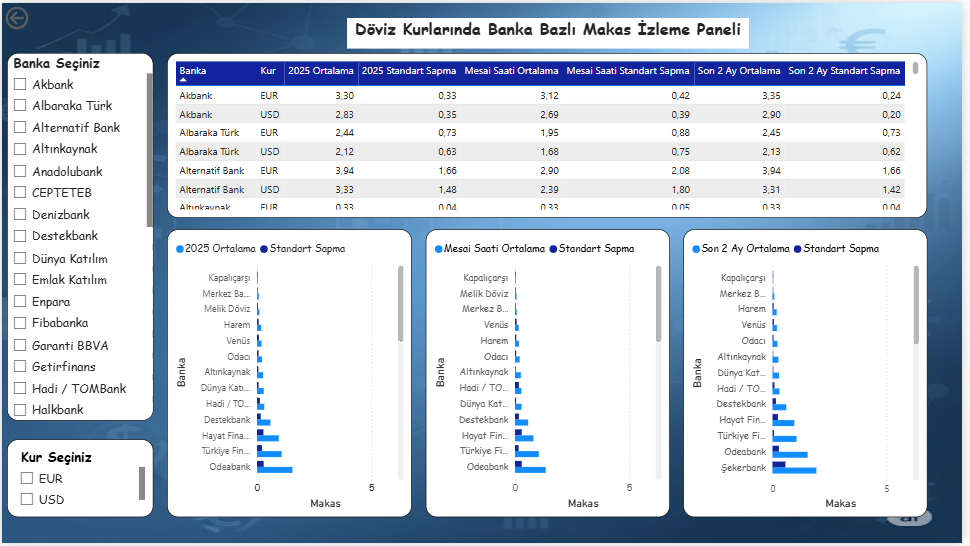

What the dashboard file says about the page in this screenshot:
{"tool":"powerbi","page":{"name":"Panel","canvas":[1280,720],"ordinal":0},"visuals":[{"type":"actionButton","box":[0,0,100,40],"z":0},{"type":"tableEx","fields":{"Values":["Doviz_Bot_Ozet_Banka.Banka","Doviz_Bot_Ozet_Banka.Kur","Doviz_Bot_Ozet_Banka.2025 Ortalama","Doviz_Bot_Ozet_Banka.2025 Standart Sapma","Doviz_Bot_Ozet_Banka.Mesai Saati Ortalama","Doviz_Bot_Ozet_Banka.Mesai Saati Standart Sapma","Doviz_Bot_Ozet_Banka.Son 2 Ay Ortalama","Doviz_Bot_Ozet_Banka.Son 2 Ay Standart Sapma"]},"box":[220.2,65.9,1013.8,220.2],"z":1000},{"type":"slicer","fields":{"Values":["Doviz_Bot_Ozet_Banka.Banka"]},"box":[7,65.9,194.9,490.8],"z":2000},{"type":"clusteredBarChart","fields":{"Category":["Doviz_Bot_Ozet_Banka.Banka"],"Y":["Avg(Doviz_Bot_Ozet_Banka.2025 Ortalama)","Avg(Doviz_Bot_Ozet_Banka.2025 Standart Sapma)"]},"box":[220.2,301.5,326.7,384.2],"z":3000},{"type":"slicer","fields":{"Values":["Doviz_Bot_Ozet_Banka.Kur"]},"box":[7,581.9,194.9,103.8],"z":4000},{"type":"clusteredBarChart","fields":{"Category":["Doviz_Bot_Ozet_Banka.Banka"],"Y":["Avg(Doviz_Bot_Ozet_Banka.Mesai Saati Ortalama)","Avg(Doviz_Bot_Ozet_Banka.Mesai Saati Standart Sapma)"]},"box":[565.1,301.5,325.3,384.2],"z":5000},{"type":"clusteredBarChart","fields":{"Category":["Doviz_Bot_Ozet_Banka.Banka"],"Y":["Avg(Doviz_Bot_Ozet_Banka.Son 2 Ay Ortalama)","Avg(Doviz_Bot_Ozet_Banka.Son 2 Ay Standart Sapma)"]},"box":[908.7,301.5,325.3,384.2],"z":6000},{"type":"textbox","box":[459.9,19.6,535.7,40.7],"z":6001}]}

Visuals, with their boxes in screenshot pixels (x1, y1, x2, y2), scaled from the page's 1280x720 canvas onto the 970x546 screenshot:
actionButton: <region>0, 0, 76, 30</region>
tableEx - Doviz_Bot_Ozet_Banka.Banka x Doviz_Bot_Ozet_Banka.Kur: <region>167, 50, 935, 217</region>
slicer - Doviz_Bot_Ozet_Banka.Banka: <region>5, 50, 153, 422</region>
clusteredBarChart - Doviz_Bot_Ozet_Banka.Banka x Avg(Doviz_Bot_Ozet_Banka.2025 Ortalama): <region>167, 229, 414, 520</region>
slicer - Doviz_Bot_Ozet_Banka.Kur: <region>5, 441, 153, 520</region>
clusteredBarChart - Doviz_Bot_Ozet_Banka.Banka x Avg(Doviz_Bot_Ozet_Banka.Mesai Saati Ortalama): <region>428, 229, 675, 520</region>
clusteredBarChart - Doviz_Bot_Ozet_Banka.Banka x Avg(Doviz_Bot_Ozet_Banka.Son 2 Ay Ortalama): <region>689, 229, 935, 520</region>
textbox: <region>349, 15, 754, 46</region>
